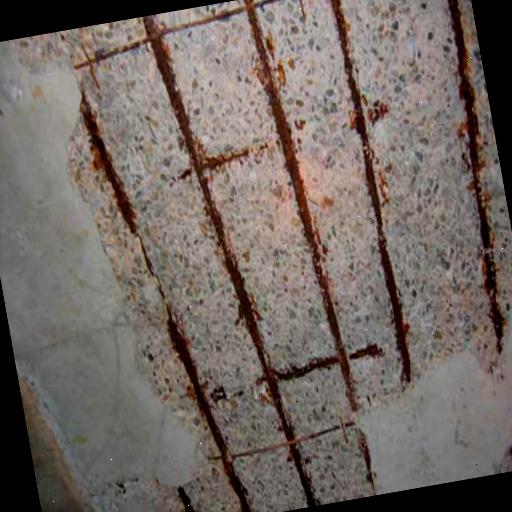spalling: (15, 0, 512, 512), (492, 437, 512, 474)
